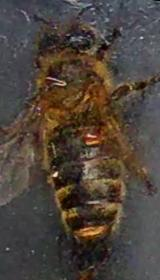varroa_mite: (77, 128, 104, 150)
